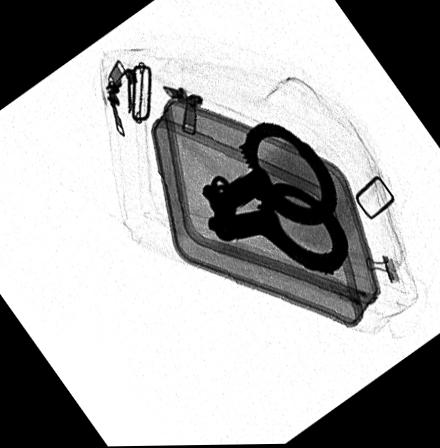HandCuffs: (200, 123, 347, 276)
